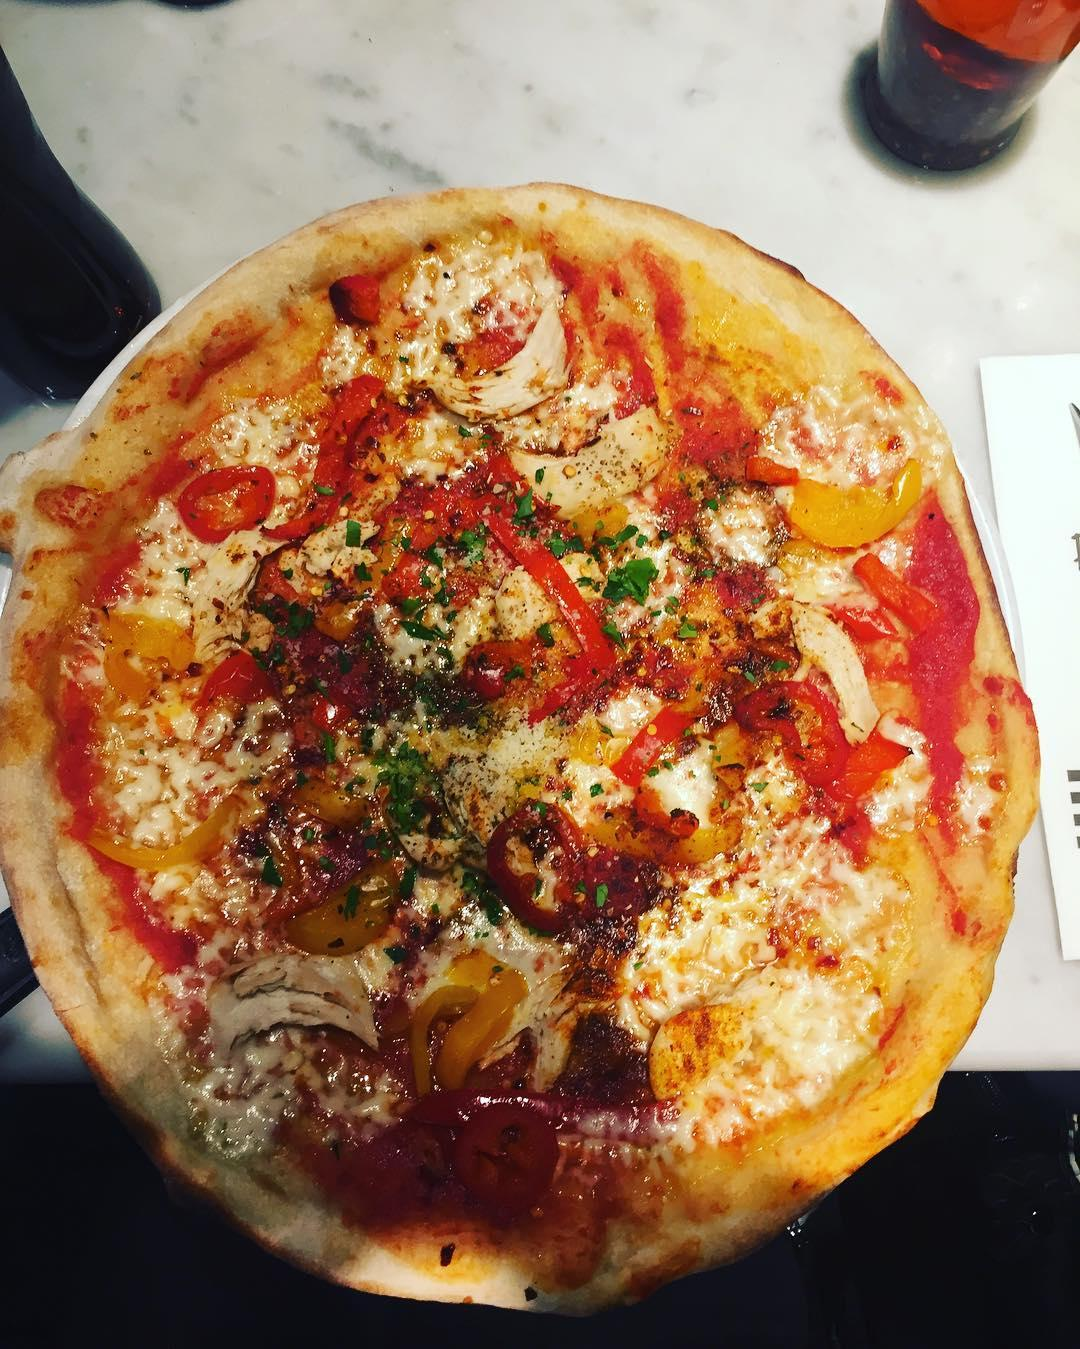Chicken: (194, 946, 389, 1083), (501, 398, 672, 522), (421, 298, 577, 429), (781, 597, 888, 747), (520, 953, 583, 1109)
Peppers: (322, 447, 517, 637), (721, 669, 914, 859), (480, 508, 636, 723), (256, 357, 407, 550), (77, 775, 276, 875), (402, 952, 526, 1102), (472, 796, 588, 937), (273, 855, 418, 961), (780, 453, 933, 547), (455, 1096, 565, 1218), (80, 605, 202, 699), (172, 465, 280, 552), (611, 700, 706, 784), (187, 635, 280, 717), (279, 763, 366, 831)
Pizza: (0, 182, 1043, 1314)
